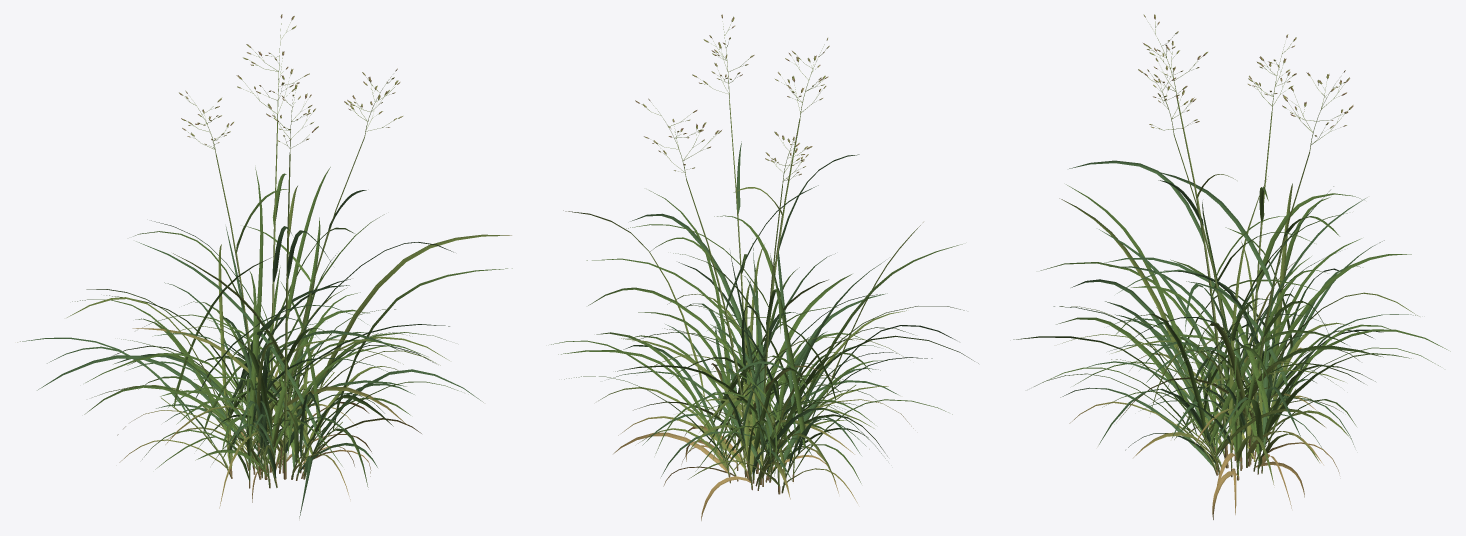
Rendered from meadow-tuft-folded.glb.
3 views of the same model, side by side, from view 1: azimuth 30°, elevation 25°; view 2: azimuth 150°, elevation 25°; view 3: azimuth 270°, elevation 25° (orthographic). The views are drawn at different scales.
Parts seen in each view (by area): view 1: Flowering culm 03, Flowering culm 01, Leafy tiller 19, Flowering culm 02, Flowering culm 04, Leafy tiller 23, Leafy tiller 30, Leafy tiller 07, Leafy tiller 21, Leafy tiller 06, Leafy tiller 16, Leafy tiller 05 (+18 smaller); view 2: Flowering culm 04, Flowering culm 01, Flowering culm 03, Leafy tiller 07, Leafy tiller 28, Flowering culm 02, Leafy tiller 23, Leafy tiller 30, Leafy tiller 10, Leafy tiller 26, Leafy tiller 20, Leafy tiller 09 (+18 smaller); view 3: Flowering culm 03, Flowering culm 04, Flowering culm 01, Leafy tiller 06, Leafy tiller 19, Leafy tiller 28, Flowering culm 02, Leafy tiller 15, Leafy tiller 30, Leafy tiller 25, Leafy tiller 11, Leafy tiller 16 (+18 smaller).
Boxes of the visible parts, x1,y1,x2,y2 form: Flowering culm 03: (257, 84, 351, 479); Flowering culm 01: (151, 68, 453, 473); Leafy tiller 19: (136, 241, 461, 518); Flowering culm 02: (126, 90, 399, 474); Flowering culm 04: (184, 14, 354, 472); Leafy tiller 23: (17, 256, 323, 478); Leafy tiller 30: (142, 234, 511, 469); Leafy tiller 07: (37, 297, 373, 470); Leafy tiller 21: (85, 336, 449, 479); Leafy tiller 06: (196, 268, 512, 478); Leafy tiller 16: (225, 270, 399, 487); Leafy tiller 05: (84, 324, 449, 479); Flowering culm 04: (588, 98, 883, 481); Flowering culm 01: (630, 14, 764, 477); Flowering culm 03: (626, 38, 859, 473); Leafy tiller 07: (608, 324, 906, 490); Leafy tiller 28: (689, 253, 835, 520); Flowering culm 02: (714, 131, 845, 484); Leafy tiller 23: (693, 253, 869, 503); Leafy tiller 30: (563, 210, 854, 479); Leafy tiller 10: (642, 336, 880, 494); Leafy tiller 26: (661, 253, 952, 481); Leafy tiller 20: (718, 252, 870, 493); Leafy tiller 09: (558, 337, 856, 475); Flowering culm 03: (1069, 14, 1347, 468); Flowering culm 04: (1108, 70, 1440, 466); Flowering culm 01: (1062, 66, 1367, 468); Leafy tiller 06: (1098, 302, 1309, 474); Leafy tiller 19: (1034, 186, 1344, 475); Leafy tiller 28: (1104, 257, 1417, 473); Flowering culm 02: (1124, 34, 1361, 445); Leafy tiller 15: (1074, 254, 1411, 458); Leafy tiller 30: (1194, 269, 1327, 467); Leafy tiller 25: (1131, 259, 1356, 497); Leafy tiller 11: (1053, 306, 1364, 467); Leafy tiller 16: (1071, 279, 1319, 430).
Size of the model in its own units: 1 by 0.9668 by 0.8555.
Materials: 11 (5 with a texture image).
